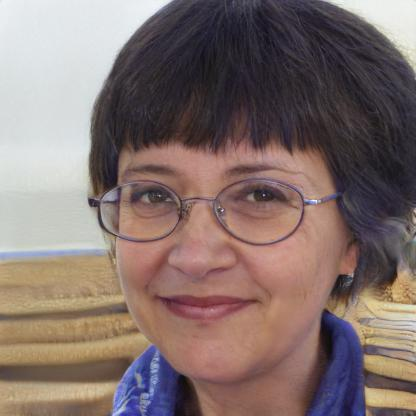glasses: (89, 176, 335, 248)
